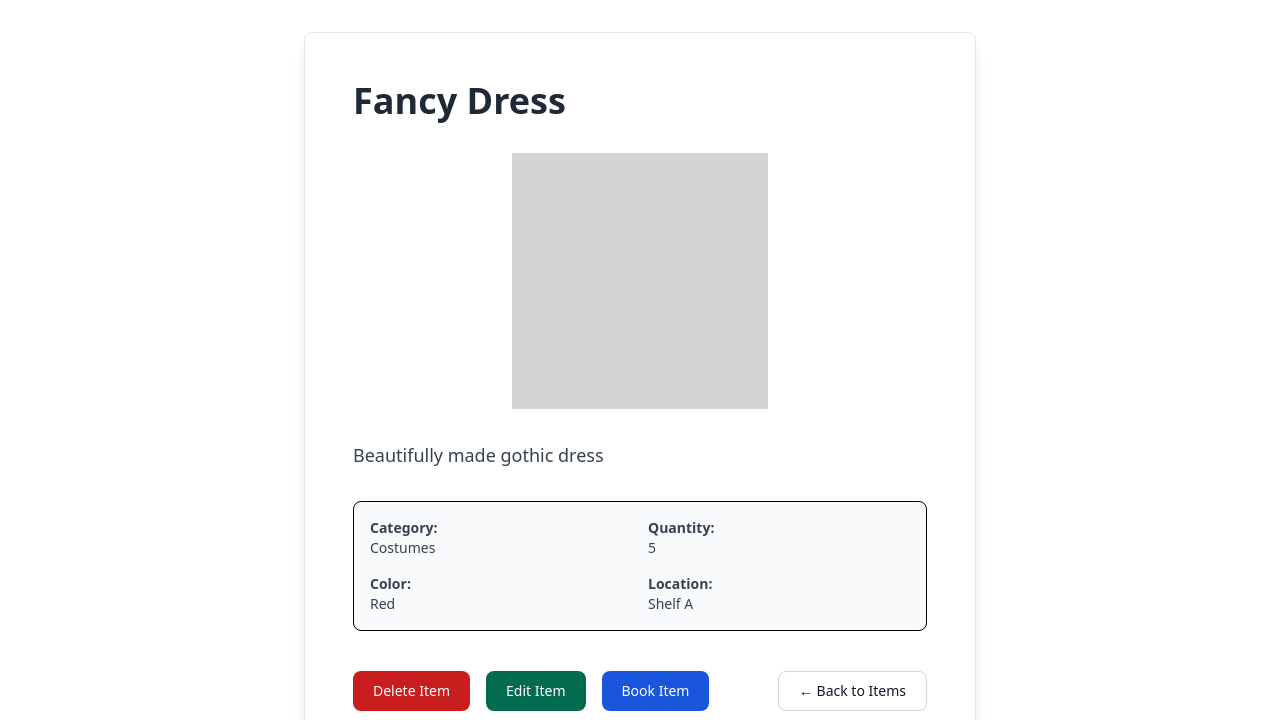
it: ItemDetail Page › handles delete API error
Expected: the heading "Fancy Dress" is shown, left=353, top=76, right=566, bottom=125
Open modal and confirm deletion
Click the button "Delete Item" at x=412, y=691, box left=353, top=671, right=470, bottom=711
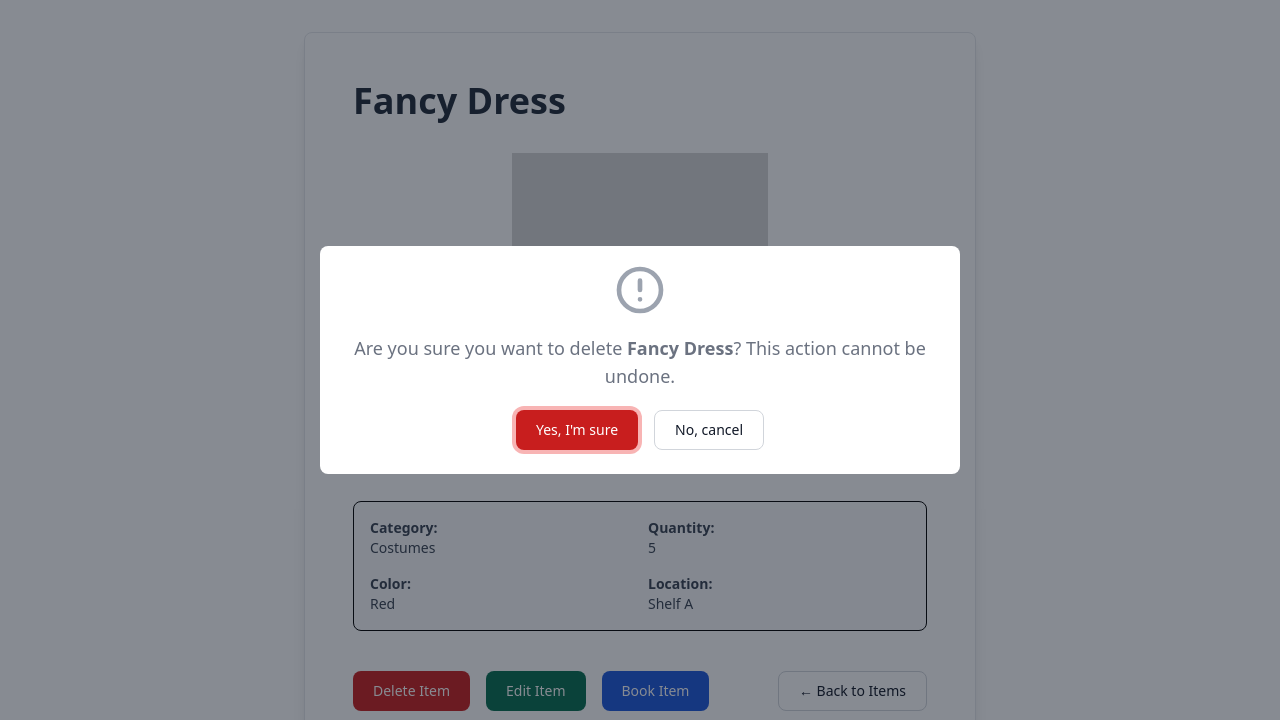
Click the button "Yes, I'm sure" at x=577, y=430, box left=516, top=410, right=638, bottom=450
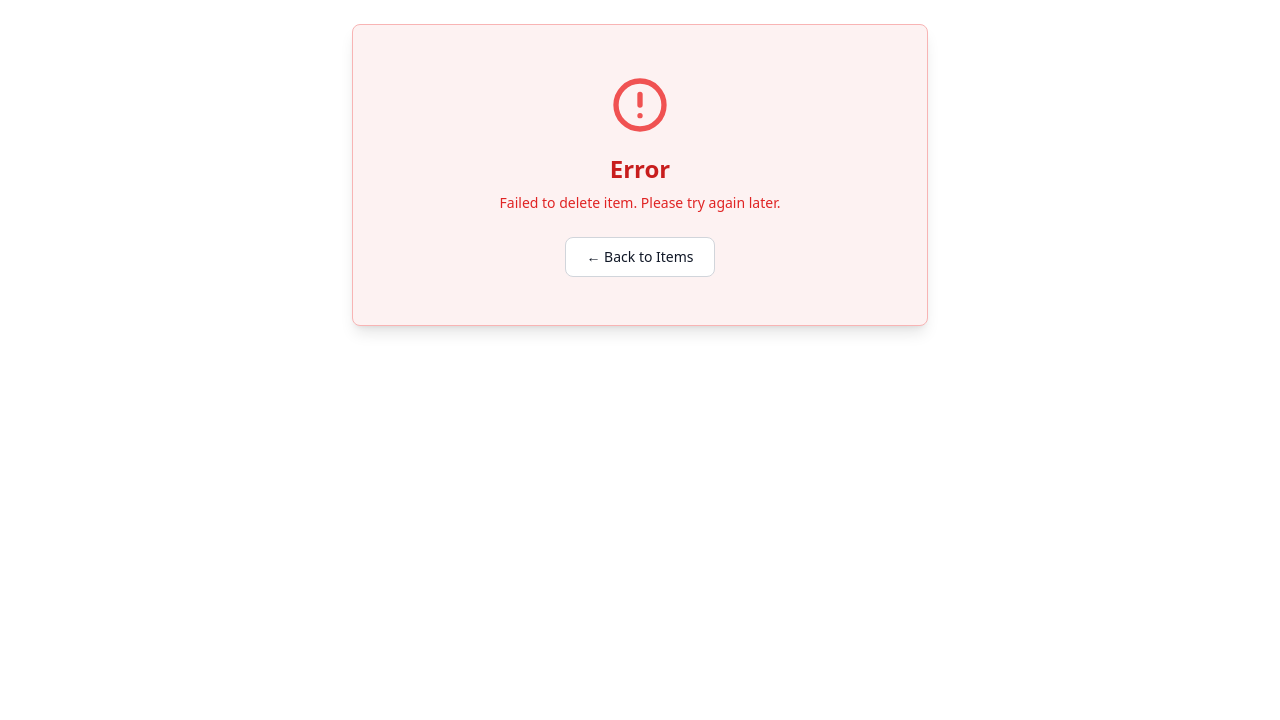
Expected: the text "Failed to delete item. Please try again later." is shown, left=500, top=193, right=780, bottom=212
